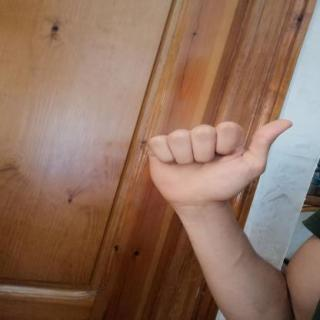DAD: (137, 110, 302, 214)
